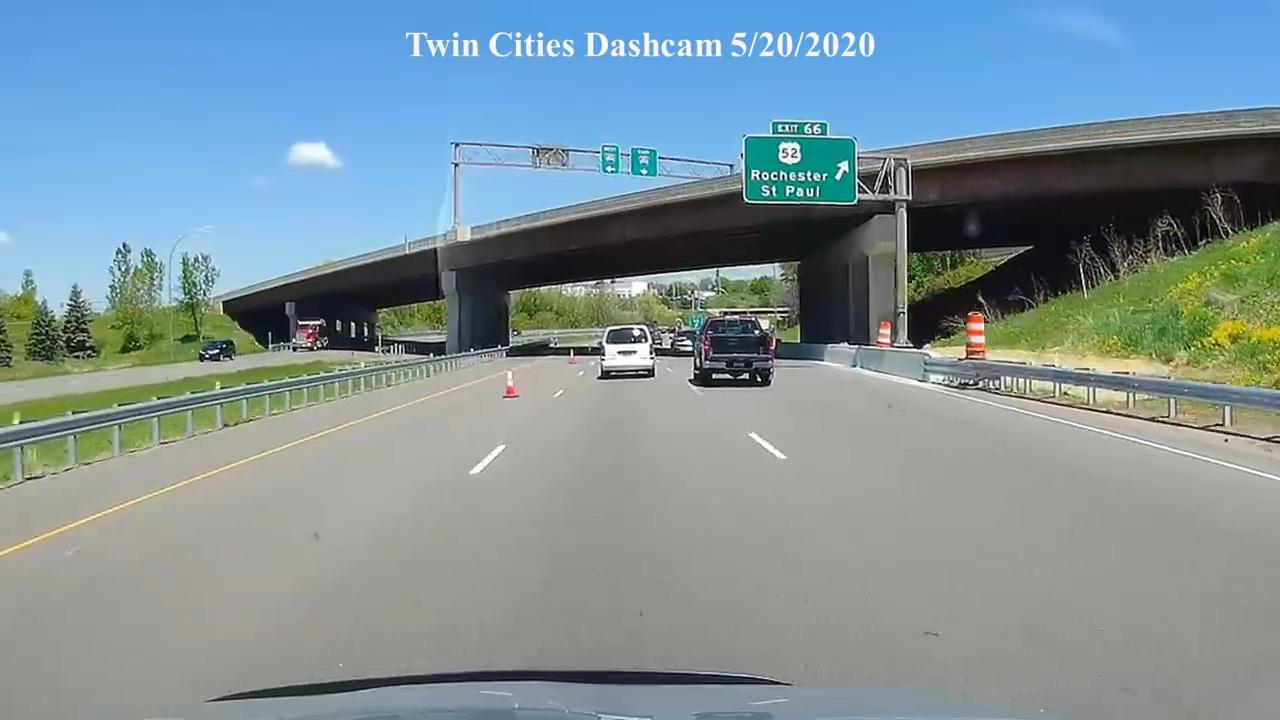car: (691, 313, 780, 387), (598, 324, 657, 379), (198, 340, 236, 362)
traffic cone: (964, 311, 988, 360), (501, 369, 520, 400), (877, 319, 893, 347), (567, 348, 578, 364)
